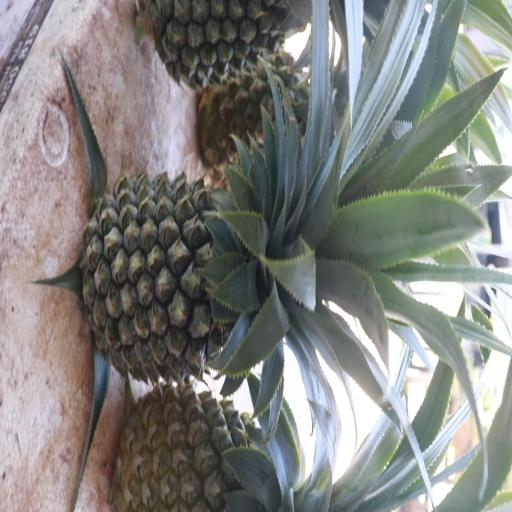------------------------------: (122, 383, 286, 512)
